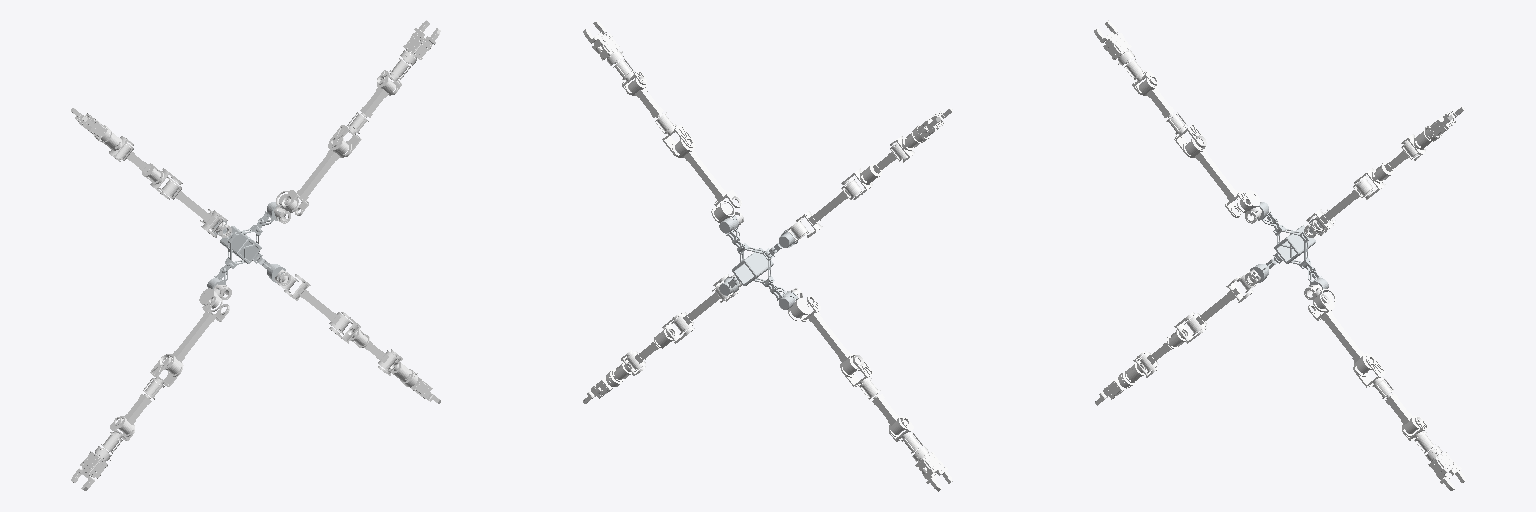
--- What the picture shows (computed from the rendered views, not written in the file) ---
The picture shows the robot from 3 angles, left to right: view 1: azimuth 30°, elevation 25°; view 2: azimuth 150°, elevation 25°; view 3: azimuth 330°, elevation 25°; orthographic projection.
Model limbarm_robot with 34 links and 33 joints (28 revolute, 5 fixed), rooted at dummy_link, posed all joints at 0.
Visible links, largest first — view 1: Link2_2, Link3_2, base_link, Link4_2, Link1_2, Link3_Hand, Link2_Hand, Link3_3, Link2_3, Link2_4, Link3_4; view 2: Link2_2, Link3_2, base_link, Link4_2, Link2_Hand, Link3_Hand, Link1_2, Link3_3, Link2_4, Link2_3, Link3_4; view 3: Link4_2, Link1_2, base_link, Link3_2, Link2_2, Link1_Hand, Link4_Hand, Link1_3, Link4_4, Link4_3, Link1_4.
Link boxes in pixels (x1,y1,x2,y2): Link2_2: (163,296,229,376); Link3_2: (282,138,351,215); base_link: (220,225,262,268); Link4_2: (159,177,227,237); Link1_2: (284,274,352,334); Link3_Hand: (403,20,440,59); Link2_Hand: (71,451,107,490); Link3_3: (329,112,368,156); Link2_3: (143,354,180,399); Link2_4: (116,394,151,436); Link3_4: (360,77,397,117); Link2_2: (800,296,860,377); Link3_2: (672,138,741,207); base_link: (732,243,774,286); Link4_2: (796,177,864,237); Link2_Hand: (915,452,952,491); Link3_Hand: (583,21,619,60); Link1_2: (671,274,739,334); Link3_3: (655,112,694,157); Link2_4: (872,394,906,436); Link2_3: (842,355,880,399); Link3_4: (625,77,663,117); Link4_2: (1183,138,1251,217); Link1_2: (1308,294,1372,376); base_link: (1273,225,1315,268); Link3_2: (1306,176,1375,235); Link2_2: (1184,276,1253,335); Link1_Hand: (1428,451,1465,490); Link4_Hand: (1094,20,1131,59); Link1_3: (1353,355,1393,398); Link4_4: (1136,77,1174,117); Link4_3: (1166,112,1206,152); Link1_4: (1385,394,1419,436).
Bounding box of the posed robot: 1.91 × 0.2823 × 1.91 m (x, y, z).
33 mesh visuals loaded from 9 distinct referenced files (9 binary STL).

The robot description file, URDF, robot "limbarm_robot":
<?xml version="1.0" ?>
<!-- =================================================================================== -->
<!-- |    This document was autogenerated by xacro from limbarm_robot.xacro            | -->
<!-- |    EDITING THIS FILE BY HAND IS NOT RECOMMENDED                                 | -->
<!-- =================================================================================== -->
<!-- This URDF was automatically created by SolidWorks to URDF Exporter! Originally created by Stephen Brawner ([email redacted]) 
     Commit Version: 1.6.0-1-g15f4949  Build Version: 1.6.7594.29634
     For more information, please see http://wiki.ros.org/sw_urdf_exporter -->
<robot name="limbarm_robot">
  <!--body*********************************************************************************************************-->
  <!-- Define the dummy link -->
  <link name="dummy_link">
    <!-- No inertial element is necessary for the dummy link -->
  </link>
  <link name="base_link">
    <inertial>
      <origin xyz="0 0 0" rpy="0 0 0"/>
      <mass value="0.207227651472846"/>
      <inertia ixx="0.000864776609063061" ixy="1.70761842166467E-18" ixz="-3.90064549015996E-19" iyy="0.000864776609063067" iyz="-7.32576739205599E-20" izz="0.00169698819383654"/>
    </inertial>
    <visual>
      <origin xyz="0 0 0" rpy="0 0 0"/>
      <geometry>
        <mesh filename="package://limbarm-robot/meshes/base_link.STL"/>
      </geometry>
      <material name="">
        <color rgba="0.898039215686275 0.917647058823529 0.929411764705882 1"/>
      </material>
    </visual>
    <collision>
      <origin xyz="0 0 0" rpy="0 0 0"/>
      <geometry>
        <mesh filename="package://limbarm-robot/meshes/base_link.STL"/>
      </geometry>
    </collision>
  </link>
  <!-- Define a fixed joint between the dummy link and the base_link -->
  <joint name="dummy_joint" type="fixed">
    <parent link="dummy_link"/>
    <child link="base_link"/>
    <origin xyz="0 0 0.55" rpy="-1.5708 0 0"/>
  </joint>
  <!-- <link name="Link_platform">
    <inertial>
      <origin rpy="0 0 0" xyz="8.3809632400694E-17 -3.87522401236673E-16 0.0118908439474308"/>
      <mass value="0.2130133080088"/>
      <inertia ixx="0.000750053187775699" ixy="-2.71050543121376E-20" ixz="-1.56668488086988E-19" iyy="0.000750053187775698" iyz="-1.32295904238123E-17" izz="0.00145982770981803"/>
    </inertial>
    <visual>
      <origin rpy="0 0 0" xyz="0 0 0"/>
      <geometry>
        <mesh filename="package://limbarm-robot/meshes/Link_platform.STL"/>
      </geometry>
      <material name="">
        <color rgba="0.898039215686275 0.917647058823529 0.929411764705882 1"/>
      </material>
    </visual>
    <collision>
      <origin rpy="0 0 0" xyz="0 0 0"/>
      <geometry>
        <mesh filename="package://limbarm-robot/meshes/Link_platform.STL"/>
      </geometry>
    </collision>
  </link>
  <joint name="Joint_platform" type="prismatic">
    <origin rpy="0 0 0" xyz="0 0 0.043397"/>
    <parent link="base_link"/>
    <child link="Link_platform"/>
    <axis xyz="0 0 1"/>
    <limit effort="0" lower="0" upper="0.2" velocity="0"/>
  </joint> -->
  <link name="Link1_0">
    <inertial>
      <origin rpy="0 0 0" xyz="0.0664169606230434 -0.0201281947592238 4.76216409223294E-09"/>
      <mass value="0.167855923175507"/>
      <inertia ixx="0.000138967813923233" ixy="0.00013034966620524" ixz="4.19274572448473E-10" iyy="0.000359258276622689" iyz="-4.93247675598086E-10" izz="0.00040872901975892"/>
    </inertial>
    <visual>
      <origin rpy="0 0 0" xyz="0 0 0"/>
      <geometry>
        <mesh filename="package://limbarm-robot/meshes/Link_0.STL"/>
      </geometry>
      <material name="">
        <color rgba="0.898039215686275 0.917647058823529 0.929411764705882 1"/>
      </material>
    </visual>
    <collision>
      <origin rpy="0 0 0" xyz="0 0 0"/>
      <geometry>
        <mesh filename="package://limbarm-robot/meshes/Link_0.STL"/>
      </geometry>
    </collision>
  </link>
  <joint name="Joint1_0" type="revolute">
    <origin rpy="1.5708 0 0.7854" xyz="0.072125 0.072125 0.018"/>
    <parent link="base_link"/>
    <child link="Link1_0"/>
    <axis xyz="0 0 1"/>
    <limit effort="0" lower="0" upper="1.5707963267948966" velocity="0"/>
  </joint>
  <link name="Link1_1">
    <inertial>
      <origin rpy="0 0 0" xyz="0.0250848566132372 0.00345843485933482 0.0514637195946037"/>
      <mass value="0.0924049155630686"/>
      <inertia ixx="0.000113655728960563" ixy="-5.80244611122902E-06" ixz="-3.76444889979073E-06" iyy="0.000108121821578899" iyz="-3.49900344610929E-10" izz="9.35026260489851E-05"/>
    </inertial>
    <visual>
      <origin rpy="0 0 0" xyz="0 0 0"/>
      <geometry>
        <mesh filename="package://limbarm-robot/meshes/Link_1.STL"/>
      </geometry>
      <material name="">
        <color rgba="1 1 1 1"/>
      </material>
    </visual>
    <collision>
      <origin rpy="0 0 0" xyz="0 0 0"/>
      <geometry>
        <mesh filename="package://limbarm-robot/meshes/Link_1.STL"/>
      </geometry>
    </collision>
  </link>
  <joint name="Joint1_1" type="revolute">
    <origin rpy="1.5708 0 0" xyz="0.12 -0.058 0"/>
    <parent link="Link1_0"/>
    <child link="Link1_1"/>
    <axis xyz="0 0 1"/>
    <limit effort="0" lower="-2.094395102393195" upper="2.094395102393195" velocity="0"/>
  </joint>
  <link name="Link1_2">
    <inertial>
      <origin rpy="0 0 0" xyz="0.164755159604738 5.52891938350869E-05 0.00408065381894232"/>
      <mass value="0.199013621726556"/>
      <inertia ixx="0.000157061185619374" ixy="1.12205157240906E-10" ixz="1.68248403114826E-05" iyy="0.000550518166051161" iyz="3.11728051125751E-11" izz="0.000520833679086167"/>
    </inertial>
    <visual>
      <origin rpy="0 0 0" xyz="0 0 0"/>
      <geometry>
        <mesh filename="package://limbarm-robot/meshes/Link_2.STL"/>
      </geometry>
      <material name="">
        <color rgba="1 1 1 1"/>
      </material>
    </visual>
    <collision>
      <origin rpy="0 0 0" xyz="0 0 0"/>
      <geometry>
        <mesh filename="package://limbarm-robot/meshes/Link_2.STL"/>
      </geometry>
    </collision>
  </link>
  <joint name="Joint1_2" type="revolute">
    <origin rpy="-1.5708 0 0" xyz="0.0625 0.0025 0.059"/>
    <parent link="Link1_1"/>
    <child link="Link1_2"/>
    <axis xyz="0 0 1"/>
    <limit effort="0" lower="-2.0943951023931953" upper="1.5707963267948966" velocity="0"/>
  </joint>
  <link name="Link1_3">
    <inertial>
      <origin rpy="0 0 0" xyz="0.0720097797375396 -0.000448350531068148 0.00124427030485257"/>
      <mass value="0.133696366167161"/>
      <inertia ixx="0.000115445322405323" ixy="-2.9390750086264E-07" ixz="3.41837661585693E-05" iyy="0.000205794166012378" iyz="-7.33953327793886E-11" izz="0.000182900509037997"/>
    </inertial>
    <visual>
      <origin rpy="0 0 0" xyz="0 0 0"/>
      <geometry>
        <mesh filename="package://limbarm-robot/meshes/Link_3.STL"/>
      </geometry>
      <material name="">
        <color rgba="1 1 1 1"/>
      </material>
    </visual>
    <collision>
      <origin rpy="0 0 0" xyz="0 0 0"/>
      <geometry>
        <mesh filename="package://limbarm-robot/meshes/Link_3.STL"/>
      </geometry>
    </collision>
  </link>
  <joint name="Joint1_3" type="revolute">
    <origin rpy="0 0 0" xyz="0.35 0.0002 0"/>
    <parent link="Link1_2"/>
    <child link="Link1_3"/>
    <axis xyz="0 0 1"/>
    <limit effort="0" lower="-2.530727415391778" upper="2.530727415391778" velocity="0"/>
  </joint>
  <link name="Link1_4">
    <inertial>
      <origin rpy="0 0 0" xyz="-0.00219595597659072 5.55111512312578E-17 0.10937323066911"/>
      <mass value="0.0991853302135674"/>
      <inertia ixx="0.000103997514125068" ixy="-1.20729995670382E-20" ixz="4.04878902852236E-06" iyy="0.000118364894914693" iyz="2.39343771466793E-20" izz="7.06314967499001E-05"/>
    </inertial>
    <visual>
      <origin rpy="0 0 0" xyz="0 0 0"/>
      <geometry>
        <mesh filename="package://limbarm-robot/meshes/Link_4.STL"/>
      </geometry>
      <material name="">
        <color rgba="1 1 1 1"/>
      </material>
    </visual>
    <collision>
      <origin rpy="0 0 0" xyz="0 0 0"/>
      <geometry>
        <mesh filename="package://limbarm-robot/meshes/Link_4.STL"/>
      </geometry>
    </collision>
  </link>
  <joint name="Joint1_4" type="revolute">
    <origin rpy="0 1.5708 0" xyz="0.1745 0 0"/>
    <parent link="Link1_3"/>
    <child link="Link1_4"/>
    <axis xyz="0 0 1"/>
    <limit effort="0" lower="-3.141592653589793" upper="3.141592653589793" velocity="0"/>
  </joint>
  <link name="Link1_5">
    <inertial>
      <origin rpy="0 0 0" xyz="0.0516421278227287 -0.000601786312485739 0.00160323320931993"/>
      <mass value="0.102911752371677"/>
      <inertia ixx="9.39942726273345E-05" ixy="-2.93181599029908E-07" ixz="1.73270940326199E-05" iyy="0.000113244406627227" iyz="-3.14838914806693E-10" izz="8.10585911724992E-05"/>
    </inertial>
    <visual>
      <origin rpy="0 0 0" xyz="0 0 0"/>
      <geometry>
        <mesh filename="package://limbarm-robot/meshes/Link_5.STL"/>
      </geometry>
      <material name="">
        <color rgba="1 1 1 1"/>
      </material>
    </visual>
    <collision>
      <origin rpy="0 0 0" xyz="0 0 0"/>
      <geometry>
        <mesh filename="package://limbarm-robot/meshes/Link_5.STL"/>
      </geometry>
    </collision>
  </link>
  <joint name="Joint1_5" type="revolute">
    <origin rpy="3.1416 -1.5708 0" xyz="0 0 0.1795"/>
    <parent link="Link1_4"/>
    <child link="Link1_5"/>
    <axis xyz="0 0 1"/>
    <limit effort="0" lower="-1.9198621771937623" upper="1.9198621771937623" velocity="0"/>
  </joint>
  <link name="Link1_6">
    <inertial>
      <origin rpy="0 0 0" xyz="0.000146447962600783 0.000132910316064216 0.0194222181514005"/>
      <mass value="0.134599349728801"/>
      <inertia ixx="5.54993019233277E-05" ixy="-3.42434491188341E-07" ixz="1.1735586211374E-07" iyy="5.54034726867672E-05" iyz="9.38344787747327E-08" izz="9.77383386331803E-05"/>
    </inertial>
    <visual>
      <origin rpy="0 0 0" xyz="0 0 0"/>
      <geometry>
        <mesh filename="package://limbarm-robot/meshes/Link_6.STL"/>
      </geometry>
      <material name="">
        <color rgba="1 1 1 1"/>
      </material>
    </visual>
    <collision>
      <origin rpy="0 0 0" xyz="0 0 0"/>
      <geometry>
        <mesh filename="package://limbarm-robot/meshes/Link_6.STL"/>
      </geometry>
    </collision>
  </link>
  <joint name="Joint1_6" type="revolute">
    <origin rpy="0 1.5708 0" xyz="0.141 0 0"/>
    <parent link="Link1_5"/>
    <child link="Link1_6"/>
    <axis xyz="0 0 1"/>
    <limit effort="0" lower="-3.141592653589793" upper="3.141592653589793" velocity="0"/>
  </joint>
  <link name="Link1_Hand">
      <inertial>
        <origin rpy="0 0 0" xyz="-5.34486019601772E-05 -0.00163292800302499 0.0718038327986019"/>
        <mass value="0.306213518195145" />
        <inertia ixx="0.000241886583337232" ixy="-7.53752414578879E-06" ixz="-4.09966232551133E-08" iyy="0.000127174038942717" iyz="1.77993490423381E-06" izz="0.000271550204634038" />
      </inertial>
      <visual>
        <origin rpy="0 0 0" xyz="0 0 0"/>
        <geometry>
          <mesh filename="package://limbarm-robot/meshes/Hand.STL" />
        </geometry>
        <material name="">
          <color rgba="1 1 1 1" />
        </material>
      </visual>
      <collision>
        <origin rpy="0 0 0" xyz="0 0 0"/>
        <geometry>
          <mesh
            filename="package://limbarm-robot/meshes/Hand.STL" />
        </geometry>
      </collision>
  </link>
  <joint name="Joint1_hand"
      type="fixed">
      <origin rpy="0 0 0" xyz="0 0 0.0385"/>
      <parent link="Link1_6" />
      <child link="Link1_Hand" />
      <axis xyz="0 0 0" />
  </joint>
  <link name="Link2_0">
      <inertial>
        <origin rpy="0 0 0" xyz="0.0664169606230434 -0.0201281947592238 4.76216409223294E-09"/>
        <mass value="0.167855923175507"/>
        <inertia ixx="0.000138967813923233" ixy="0.00013034966620524" ixz="4.19274572448473E-10" iyy="0.000359258276622689" iyz="-4.93247675598086E-10" izz="0.00040872901975892"/>
      </inertial>
      <visual>
        <origin rpy="0 0 0" xyz="0 0 0"/>
        <geometry>
          <mesh filename="package://limbarm-robot/meshes/Link_0.STL"/>
        </geometry>
        <material name="">
          <color rgba="0.898039215686275 0.917647058823529 0.929411764705882 1"/>
        </material>
      </visual>
      <collision>
        <origin rpy="0 0 0" xyz="0 0 0"/>
        <geometry>
          <mesh filename="package://limbarm-robot/meshes/Link_0.STL"/>
        </geometry>
      </collision>
  </link>
  <joint name="Joint2_0" type="revolute">
      <origin rpy="1.5708 0 2.3562" xyz="-0.072125 0.072125 0.018"/>
      <parent link="base_link"/>
      <child link="Link2_0"/>
      <axis xyz="0 0 1"/>
      <limit effort="0" lower="0" upper="1.5707963267948966" velocity="0"/>
  </joint>
  <link name="Link2_1">
      <inertial>
        <origin rpy="0 0 0" xyz="0.0250848566132372 0.00345843485933482 0.0514637195946037"/>
        <mass value="0.0924049155630686"/>
        <inertia ixx="0.000113655728960563" ixy="-5.80244611122902E-06" ixz="-3.76444889979073E-06" iyy="0.000108121821578899" iyz="-3.49900344610929E-10" izz="9.35026260489851E-05"/>
      </inertial>
      <visual>
        <origin rpy="0 0 0" xyz="0 0 0"/>
        <geometry>
          <mesh filename="package://limbarm-robot/meshes/Link_1.STL"/>
        </geometry>
        <material name="">
          <color rgba="1 1 1 1"/>
        </material>
      </visual>
      <collision>
        <origin rpy="0 0 0" xyz="0 0 0"/>
        <geometry>
          <mesh filename="package://limbarm-robot/meshes/Link_1.STL"/>
        </geometry>
      </collision>
  </link>
  <joint name="Joint2_1" type="revolute">
      <origin rpy="1.5708 0 0" xyz="0.12 -0.058 0"/>
      <parent link="Link2_0"/>
      <child link="Link2_1"/>
      <axis xyz="0 0 1"/>
      <limit effort="0" lower="-2.094395102393195" upper="2.094395102393195" velocity="0"/>
  </joint>
  <link name="Link2_2">
      <inertial>
        <origin rpy="0 0 0" xyz="0.164755159604738 5.52891938350869E-05 0.00408065381894232"/>
        <mass value="0.199013621726556"/>
        <inertia ixx="0.000157061185619374" ixy="1.12205157240906E-10" ixz="1.68248403114826E-05" iyy="0.000550518166051161" iyz="3.11728051125751E-11" izz="0.000520833679086167"/>
      </inertial>
      <visual>
        <origin rpy="0 0 0" xyz="0 0 0"/>
        <geometry>
          <mesh filename="package://limbarm-robot/meshes/Link_2.STL"/>
        </geometry>
        <material name="">
          <color rgba="1 1 1 1"/>
        </material>
      </visual>
      <collision>
        <origin rpy="0 0 0" xyz="0 0 0"/>
        <geometry>
          <mesh filename="package://limbarm-robot/meshes/Link_2.STL"/>
        </geometry>
      </collision>
  </link>
  <joint name="Joint2_2" type="revolute">
      <origin rpy="-1.5708 0 0" xyz="0.0625 0.0025 0.059"/>
      <parent link="Link2_1"/>
      <child link="Link2_2"/>
      <axis xyz="0 0 1"/>
      <limit effort="0" lower="-2.0943951023931953" upper="1.5707963267948966" velocity="0"/>
  </joint>
  <link name="Link2_3">
      <inertial>
        <origin rpy="0 0 0" xyz="0.0720097797375396 -0.000448350531068148 0.00124427030485257"/>
        <mass value="0.133696366167161"/>
        <inertia ixx="0.000115445322405323" ixy="-2.9390750086264E-07" ixz="3.41837661585693E-05" iyy="0.000205794166012378" iyz="-7.33953327793886E-11" izz="0.000182900509037997"/>
      </inertial>
      <visual>
        <origin rpy="0 0 0" xyz="0 0 0"/>
        <geometry>
          <mesh filename="package://limbarm-robot/meshes/Link_3.STL"/>
        </geometry>
        <material name="">
          <color rgba="1 1 1 1"/>
        </material>
      </visual>
      <collision>
        <origin rpy="0 0 0" xyz="0 0 0"/>
        <geometry>
          <mesh filename="package://limbarm-robot/meshes/Link_3.STL"/>
        </geometry>
      </collision>
  </link>
  <joint name="Joint2_3" type="revolute">
      <origin rpy="0 0 0" xyz="0.35 0.0002 0"/>
      <parent link="Link2_2"/>
      <child link="Link2_3"/>
      <axis xyz="0 0 1"/>
      <limit effort="0" lower="-2.530727415391778" upper="2.530727415391778" velocity="0"/>
  </joint>
  <link name="Link2_4">
      <inertial>
        <origin rpy="0 0 0" xyz="-0.00219595597659072 5.55111512312578E-17 0.10937323066911"/>
        <mass value="0.0991853302135674"/>
        <inertia ixx="0.000103997514125068" ixy="-1.20729995670382E-20" ixz="4.04878902852236E-06" iyy="0.000118364894914693" iyz="2.39343771466793E-20" izz="7.06314967499001E-05"/>
      </inertial>
      <visual>
        <origin rpy="0 0 0" xyz="0 0 0"/>
        <geometry>
          <mesh filename="package://limbarm-robot/meshes/Link_4.STL"/>
        </geometry>
        <material name="">
          <color rgba="1 1 1 1"/>
        </material>
      </visual>
      <collision>
        <origin rpy="0 0 0" xyz="0 0 0"/>
        <geometry>
          <mesh filename="package://limbarm-robot/meshes/Link_4.STL"/>
        </geometry>
      </collision>
  </link>
  <joint name="Joint2_4" type="revolute">
      <origin rpy="0 1.5708 0" xyz="0.1745 0 0"/>
      <parent link="Link2_3"/>
      <child link="Link2_4"/>
      <axis xyz="0 0 1"/>
      <limit effort="0" lower="-3.141592653589793" upper="3.141592653589793" velocity="0"/>
  </joint>
  <link name="Link2_5">
      <inertial>
        <origin rpy="0 0 0" xyz="0.0516421278227287 -0.000601786312485739 0.00160323320931993"/>
        <mass value="0.102911752371677"/>
        <inertia ixx="9.39942726273345E-05" ixy="-2.93181599029908E-07" ixz="1.73270940326199E-05" iyy="0.000113244406627227" iyz="-3.14838914806693E-10" izz="8.10585911724992E-05"/>
      </inertial>
      <visual>
        <origin rpy="0 0 0" xyz="0 0 0"/>
        <geometry>
          <mesh filename="package://limbarm-robot/meshes/Link_5.STL"/>
        </geometry>
        <material name="">
          <color rgba="1 1 1 1"/>
        </material>
      </visual>
      <collision>
        <origin rpy="0 0 0" xyz="0 0 0"/>
        <geometry>
          <mesh filename="package://limbarm-robot/meshes/Link_5.STL"/>
        </geometry>
      </collision>
  </link>
  <joint name="Joint2_5" type="revolute">
      <origin rpy="3.1416 -1.5708 0" xyz="0 0 0.1795"/>
      <parent link="Link2_4"/>
      <child link="Link2_5"/>
      <axis xyz="0 0 1"/>
      <limit effort="0" lower="-1.9198621771937623" upper="1.9198621771937623" velocity="0"/>
  </joint>
  <link name="Link2_6">
      <inertial>
        <origin rpy="0 0 0" xyz="0.000146447962600783 0.000132910316064216 0.0194222181514005"/>
        <mass value="0.134599349728801"/>
        <inertia ixx="5.54993019233277E-05" ixy="-3.42434491188341E-07" ixz="1.1735586211374E-07" iyy="5.54034726867672E-05" iyz="9.38344787747327E-08" izz="9.77383386331803E-05"/>
      </inertial>
      <visual>
        <origin rpy="0 0 0" xyz="0 0 0"/>
        <geometry>
          <mesh filename="package://limbarm-robot/meshes/Link_6.STL"/>
        </geometry>
        <material name="">
          <color rgba="1 1 1 1"/>
        </material>
      </visual>
      <collision>
        <origin rpy="0 0 0" xyz="0 0 0"/>
        <geometry>
          <mesh filename="package://limbarm-robot/meshes/Link_6.STL"/>
        </geometry>
      </collision>
  </link>
  <joint name="Joint2_6" type="revolute">
      <origin rpy="0 1.5708 0" xyz="0.141 0 0"/>
      <parent link="Link2_5"/>
      <child link="Link2_6"/>
      <axis xyz="0 0 1"/>
      <limit effort="0" lower="-3.141592653589793" upper="3.141592653589793" velocity="0"/>
  </joint>
  <link name="Link2_Hand">
      <inertial>
        <origin rpy="0 0 0" xyz="-5.34486019601772E-05 -0.00163292800302499 0.0718038327986019"/>
        <mass value="0.306213518195145" />
        <inertia ixx="0.000241886583337232" ixy="-7.53752414578879E-06" ixz="-4.09966232551133E-08" iyy="0.000127174038942717" iyz="1.77993490423381E-06" izz="0.000271550204634038" />
      </inertial>
      <visual>
        <origin rpy="0 0 0" xyz="0 0 0"/>
        <geometry>
          <mesh filename="package://limbarm-robot/meshes/Hand.STL" />
        </geometry>
        <material name="">
          <color rgba="1 1 1 1" />
        </material>
      </visual>
      <collision>
        <origin rpy="0 0 0" xyz="0 0 0"/>
        <geometry>
          <mesh
            filename="package://limbarm-robot/meshes/Hand.STL" />
        </geometry>
      </collision>
  </link>
  <joint name="Joint2_hand"
      type="fixed">
      <origin rpy="0 0 0" xyz="0 0 0.0385"/>
      <parent link="Link2_6" />
      <child link="Link2_Hand" />
      <axis xyz="0 0 0" />
  </joint>
  <link name="Link3_0">
      <inertial>
        <origin rpy="0 0 0" xyz="0.0664169606230434 -0.0201281947592238 4.76216409223294E-09"/>
        <mass value="0.167855923175507"/>
        <inertia ixx="0.000138967813923233" ixy="0.00013034966620524" ixz="4.19274572448473E-10" iyy="0.000359258276622689" iyz="-4.93247675598086E-10" izz="0.00040872901975892"/>
      </inertial>
      <visual>
        <origin rpy="0 0 0" xyz="0 0 0"/>
        <geometry>
          <mesh filename="package://limbarm-robot/meshes/Link_0.STL"/>
        </geometry>
        <material name="">
          <color rgba="0.898039215686275 0.917647058823529 0.929411764705882 1"/>
        </material>
      </visual>
      <collision>
        <origin rpy="0 0 0" xyz="0 0 0"/>
        <geometry>
          <mesh filename="package://limbarm-robot/meshes/Link_0.STL"/>
        </geometry>
      </collision>
  </link>
  <joint name="Joint3_0" type="revolute">
      <origin rpy="1.5708 0 -0.7854" xyz="0.072125 -0.072125 0.018"/>
      <parent link="base_link"/>
      <child link="Link3_0"/>
      <axis xyz="0 0 1"/>
      <limit effort="0" lower="0" upper="1.5707963267948966" velocity="0"/>
  </joint>
  <link name="Link3_1">
      <inertial>
        <origin rpy="0 0 0" xyz="0.0250848566132372 0.00345843485933482 0.0514637195946037"/>
        <mass value="0.0924049155630686"/>
        <inertia ixx="0.000113655728960563" ixy="-5.80244611122902E-06" ixz="-3.76444889979073E-06" iyy="0.000108121821578899" iyz="-3.49900344610929E-10" izz="9.35026260489851E-05"/>
      </inertial>
      <visual>
        <origin rpy="0 0 0" xyz="0 0 0"/>
        <geometry>
          <mesh filename="package://limbarm-robot/meshes/Link_1.STL"/>
        </geometry>
        <material name="">
          <color rgba="1 1 1 1"/>
        </material>
      </visual>
      <collision>
        <origin rpy="0 0 0" xyz="0 0 0"/>
        <geometry>
          <mesh filename="package://limbarm-robot/meshes/Link_1.STL"/>
        </geometry>
      </collision>
  </link>
  <joint name="Joint3_1" type="revolute">
      <origin rpy="1.5708 0 0" xyz="0.12 -0.058 0"/>
      <parent link="Link3_0"/>
      <child link="Link3_1"/>
      <axis xyz="0 0 1"/>
      <limit effort="0" lower="-2.094395102393195" upper="2.094395102393195" velocity="0"/>
  </joint>
  <link name="Link3_2">
      <inertial>
        <origin rpy="0 0 0" xyz="0.164755159604738 5.52891938350869E-05 0.00408065381894232"/>
        <mass value="0.199013621726556"/>
        <inertia ixx="0.000157061185619374" ixy="1.12205157240906E-10" ixz="1.68248403114826E-05" iyy="0.000550518166051161" iyz="3.11728051125751E-11" izz="0.000520833679086167"/>
      </inertial>
      <visual>
        <origin rpy="0 0 0" xyz="0 0 0"/>
        <geometry>
          <mesh filename="package://limbarm-robot/meshes/Link_2.STL"/>
        </geometry>
        <material name="">
          <color rgba="1 1 1 1"/>
        </material>
      </visual>
      <collision>
        <origin rpy="0 0 0" xyz="0 0 0"/>
        <geometry>
          <mesh filename="package://limbarm-robot/meshes/Link_2.STL"/>
        </geometry>
      </collision>
  </link>
  <joint name="Joint3_2" type="revolute">
      <origin rpy="-1.5708 0 0" xyz="0.0625 0.0025 0.059"/>
      <parent link="Link3_1"/>
      <child link="Link3_2"/>
      <axis xyz="0 0 1"/>
      <limit effort="0" lower="-2.0943951023931953" upper="1.5707963267948966" velocity="0"/>
  </joint>
  <link name="Link3_3">
      <inertial>
        <origin rpy="0 0 0" xyz="0.0720097797375396 -0.000448350531068148 0.00124427030485257"/>
        <mass value="0.133696366167161"/>
        <inertia ixx="0.000115445322405323" ixy="-2.9390750086264E-07" ixz="3.41837661585693E-05" iyy="0.000205794166012378" iyz="-7.33953327793886E-11" izz="0.000182900509037997"/>
      </inertial>
      <visual>
        <origin rpy="0 0 0" xyz="0 0 0"/>
        <geometry>
          <mesh filename="package://limbarm-robot/meshes/Link_3.STL"/>
        </geometry>
        <material name="">
          <color rgba="1 1 1 1"/>
        </material>
      </visual>
      <collision>
        <origin rpy="0 0 0" xyz="0 0 0"/>
        <geometry>
          <mesh filename="package://limbarm-robot/meshes/Link_3.STL"/>
        </geometry>
      </collision>
  </link>
  <joint name="Joint3_3" type="revolute">
      <origin rpy="0 0 0" xyz="0.35 0.0002 0"/>
      <parent link="Link3_2"/>
      <child link="Link3_3"/>
      <axis xyz="0 0 1"/>
      <limit effort="0" lower="-2.530727415391778" upper="2.530727415391778" velocity="0"/>
  </joint>
  <link name="Link3_4">
      <inertial>
        <origin rpy="0 0 0" xyz="-0.00219595597659072 5.55111512312578E-17 0.10937323066911"/>
        <mass value="0.0991853302135674"/>
        <inertia ixx="0.000103997514125068" ixy="-1.20729995670382E-20" ixz="4.04878902852236E-06" iyy="0.000118364894914693" iyz="2.39343771466793E-20" izz="7.06314967499001E-05"/>
      </inertial>
      <visual>
        <origin rpy="0 0 0" xyz="0 0 0"/>
        <geometry>
          <mesh filename="package://limbarm-robot/meshes/Link_4.STL"/>
        </geometry>
        <material name="">
          <color rgba="1 1 1 1"/>
        </material>
      </visual>
      <collision>
        <origin rpy="0 0 0" xyz="0 0 0"/>
        <geometry>
          <mesh filename="package://limbarm-robot/meshes/Link_4.STL"/>
        </geometry>
      </collision>
  </link>
  <joint name="Joint3_4" type="revolute">
      <origin rpy="0 1.5708 0" xyz="0.1745 0 0"/>
      <parent link="Link3_3"/>
      <child link="Link3_4"/>
      <axis xyz="0 0 1"/>
      <limit effort="0" lower="-3.141592653589793" upper="3.141592653589793" velocity="0"/>
  </joint>
  <link name="Link3_5">
      <inertial>
        <origin rpy="0 0 0" xyz="0.0516421278227287 -0.000601786312485739 0.00160323320931993"/>
        <mass value="0.102911752371677"/>
        <inertia ixx="9.39942726273345E-05" ixy="-2.93181599029908E-07" ixz="1.73270940326199E-05" iyy="0.000113244406627227" iyz="-3.14838914806693E-10" izz="8.10585911724992E-05"/>
      </inertial>
      <visual>
        <origin rpy="0 0 0" xyz="0 0 0"/>
        <geometry>
          <mesh filename="package://limbarm-robot/meshes/Link_5.STL"/>
        </geometry>
        <material name="">
          <color rgba="1 1 1 1"/>
        </material>
      </visual>
      <collision>
        <origin rpy="0 0 0" xyz="0 0 0"/>
        <geometry>
          <mesh filename="package://limbarm-robot/meshes/Link_5.STL"/>
        </geometry>
      </collision>
  </link>
  <joint name="Joint3_5" type="revolute">
      <origin rpy="3.1416 -1.5708 0" xyz="0 0 0.1795"/>
      <parent link="Link3_4"/>
      <child link="Link3_5"/>
      <axis xyz="0 0 1"/>
      <limit effort="0" lower="-1.9198621771937623" upper="1.9198621771937623" velocity="0"/>
  </joint>
  <link name="Link3_6">
      <inertial>
        <origin rpy="0 0 0" xyz="0.000146447962600783 0.000132910316064216 0.0194222181514005"/>
        <mass value="0.134599349728801"/>
        <inertia ixx="5.54993019233277E-05" ixy="-3.42434491188341E-07" ixz="1.1735586211374E-07" iyy="5.54034726867672E-05" iyz="9.38344787747327E-08" izz="9.77383386331803E-05"/>
      </inertial>
      <visual>
        <origin rpy="0 0 0" xyz="0 0 0"/>
        <geometry>
          <mesh filename="package://limbarm-robot/meshes/Link_6.STL"/>
        </geometry>
        <material name="">
          <color rgba="1 1 1 1"/>
        </material>
      </visual>
      <collision>
        <origin rpy="0 0 0" xyz="0 0 0"/>
        <geometry>
          <mesh filename="package://limbarm-robot/meshes/Link_6.STL"/>
        </geometry>
      </collision>
  </link>
  <joint name="Joint3_6" type="revolute">
      <origin rpy="0 1.5708 0" xyz="0.141 0 0"/>
      <parent link="Link3_5"/>
      <child link="Link3_6"/>
      <axis xyz="0 0 1"/>
      <limit effort="0" lower="-3.141592653589793" upper="3.141592653589793" velocity="0"/>
  </joint>
  <link name="Link3_Hand">
      <inertial>
        <origin rpy="0 0 0" xyz="-5.34486019601772E-05 -0.00163292800302499 0.0718038327986019"/>
        <mass value="0.306213518195145" />
        <inertia ixx="0.000241886583337232" ixy="-7.53752414578879E-06" ixz="-4.09966232551133E-08" iyy="0.000127174038942717" iyz="1.77993490423381E-06" izz="0.000271550204634038" />
      </inertial>
      <visual>
        <origin rpy="0 0 0" xyz="0 0 0"/>
        <geometry>
          <mesh filename="package://limbarm-robot/meshes/Hand.STL" />
        </geometry>
        <material name="">
          <color rgba="1 1 1 1" />
        </material>
      </visual>
      <collision>
        <origin rpy="0 0 0" xyz="0 0 0"/>
        <geometry>
          <mesh
            filename="package://limbarm-robot/meshes/Hand.STL" />
        </geometry>
      </collision>
  </link>
  <joint name="Joint3_hand"
      type="fixed">
      <origin rpy="0 0 0" xyz="0 0 0.0385"/>
      <parent link="Link3_6" />
      <child link="Link3_Hand" />
      <axis xyz="0 0 0" />
  </joint>
  <link name="Link4_0">
      <inertial>
        <origin rpy="0 0 0" xyz="0.0664169606230434 -0.0201281947592238 4.76216409223294E-09"/>
        <mass value="0.167855923175507"/>
        <inertia ixx="0.000138967813923233" ixy="0.00013034966620524" ixz="4.19274572448473E-10" iyy="0.000359258276622689" iyz="-4.93247675598086E-10" izz="0.00040872901975892"/>
      </inertial>
      <visual>
        <origin rpy="0 0 0" xyz="0 0 0"/>
        <geometry>
          <mesh filename="package://limbarm-robot/meshes/Link_0.STL"/>
        </geometry>
        <material name="">
          <color rgba="0.898039215686275 0.917647058823529 0.929411764705882 1"/>
        </material>
      </visual>
      <collision>
        <origin rpy="0 0 0" xyz="0 0 0"/>
        <geometry>
          <mesh filename="package://limbarm-robot/meshes/Link_0.STL"/>
        </geometry>
      </collision>
  </link>
  <joint name="Joint4_0" type="revolute">
      <origin rpy="1.5708 0 -2.3562" xyz="-0.072125 -0.072125 0.018"/>
      <parent link="base_link"/>
      <child link="Link4_0"/>
      <axis xyz="0 0 1"/>
      <limit effort="0" lower="0" upper="1.5707963267948966" velocity="0"/>
  </joint>
  <link name="Link4_1">
      <inertial>
        <origin rpy="0 0 0" xyz="0.0250848566132372 0.00345843485933482 0.0514637195946037"/>
        <mass value="0.0924049155630686"/>
        <inertia ixx="0.000113655728960563" ixy="-5.80244611122902E-06" ixz="-3.76444889979073E-06" iyy="0.000108121821578899" iyz="-3.49900344610929E-10" izz="9.35026260489851E-05"/>
      </inertial>
      <visual>
        <origin rpy="0 0 0" xyz="0 0 0"/>
        <geometry>
          <mesh filename="package://limbarm-robot/meshes/Link_1.STL"/>
        </geometry>
        <material name="">
          <color rgba="1 1 1 1"/>
        </material>
      </visual>
      <collision>
        <origin rpy="0 0 0" xyz="0 0 0"/>
        <geometry>
          <mesh filename="package://limbarm-robot/meshes/Link_1.STL"/>
        </geometry>
      </collision>
  </link>
  <joint name="Joint4_1" type="revolute">
      <origin rpy="1.5708 0 0" xyz="0.12 -0.058 0"/>
      <parent link="Link4_0"/>
      <child link="Link4_1"/>
      <axis xyz="0 0 1"/>
      <limit effort="0" lower="-2.094395102393195" upper="2.094395102393195" velocity="0"/>
  </joint>
  <link name="Link4_2">
      <inertial>
        <origin rpy="0 0 0" xyz="0.164755159604738 5.52891938350869E-05 0.00408065381894232"/>
        <mass value="0.199013621726556"/>
        <inertia ixx="0.000157061185619374" ixy="1.12205157240906E-10" ixz="1.68248403114826E-05" iyy="0.000550518166051161" iyz="3.11728051125751E-11" izz="0.000520833679086167"/>
      </inertial>
      <visual>
        <origin rpy="0 0 0" xyz="0 0 0"/>
        <geometry>
          <mesh filename="package://limbarm-robot/meshes/Link_2.STL"/>
        </geometry>
        <material name="">
          <color rgba="1 1 1 1"/>
        </material>
      </visual>
      <collision>
        <origin rpy="0 0 0" xyz="0 0 0"/>
        <geometry>
          <mesh filename="package://limbarm-robot/meshes/Link_2.STL"/>
        </geometry>
      </collision>
  </link>
  <joint name="Joint4_2" type="revolute">
      <origin rpy="-1.5708 0 0" xyz="0.0625 0.0025 0.059"/>
      <parent link="Link4_1"/>
      <child link="Link4_2"/>
      <axis xyz="0 0 1"/>
      <limit effort="0" lower="-2.0943951023931953" upper="1.5707963267948966" velocity="0"/>
  </joint>
  <link name="Link4_3">
      <inertial>
        <origin rpy="0 0 0" xyz="0.0720097797375396 -0.000448350531068148 0.00124427030485257"/>
        <mass value="0.133696366167161"/>
        <inertia ixx="0.000115445322405323" ixy="-2.9390750086264E-07" ixz="3.41837661585693E-05" iyy="0.000205794166012378" iyz="-7.33953327793886E-11" izz="0.000182900509037997"/>
      </inertial>
      <visual>
        <origin rpy="0 0 0" xyz="0 0 0"/>
        <geometry>
          <mesh filename="package://limbarm-robot/meshes/Link_3.STL"/>
        </geometry>
        <material name="">
          <color rgba="1 1 1 1"/>
        </material>
      </visual>
      <collision>
        <origin rpy="0 0 0" xyz="0 0 0"/>
        <geometry>
          <mesh filename="package://limbarm-robot/meshes/Link_3.STL"/>
        </geometry>
      </collision>
  </link>
  <joint name="Joint4_3" type="revolute">
      <origin rpy="0 0 0" xyz="0.35 0.0002 0"/>
      <parent link="Link4_2"/>
      <child link="Link4_3"/>
      <axis xyz="0 0 1"/>
      <limit effort="0" lower="-2.530727415391778" upper="2.530727415391778" velocity="0"/>
  </joint>
  <link name="Link4_4">
      <inertial>
        <origin rpy="0 0 0" xyz="-0.00219595597659072 5.55111512312578E-17 0.10937323066911"/>
        <mass value="0.0991853302135674"/>
        <inertia ixx="0.000103997514125068" ixy="-1.20729995670382E-20" ixz="4.04878902852236E-06" iyy="0.000118364894914693" iyz="2.39343771466793E-20" izz="7.06314967499001E-05"/>
      </inertial>
      <visual>
        <origin rpy="0 0 0" xyz="0 0 0"/>
        <geometry>
          <mesh filename="package://limbarm-robot/meshes/Link_4.STL"/>
        </geometry>
        <material name="">
          <color rgba="1 1 1 1"/>
        </material>
      </visual>
      <collision>
        <origin rpy="0 0 0" xyz="0 0 0"/>
        <geometry>
          <mesh filename="package://limbarm-robot/meshes/Link_4.STL"/>
        </geometry>
      </collision>
  </link>
  <joint name="Joint4_4" type="revolute">
      <origin rpy="0 1.5708 0" xyz="0.1745 0 0"/>
      <parent link="Link4_3"/>
      <child link="Link4_4"/>
      <axis xyz="0 0 1"/>
      <limit effort="0" lower="-3.141592653589793" upper="3.141592653589793" velocity="0"/>
  </joint>
  <link name="Link4_5">
      <inertial>
        <origin rpy="0 0 0" xyz="0.0516421278227287 -0.000601786312485739 0.00160323320931993"/>
        <mass value="0.102911752371677"/>
        <inertia ixx="9.39942726273345E-05" ixy="-2.93181599029908E-07" ixz="1.73270940326199E-05" iyy="0.000113244406627227" iyz="-3.14838914806693E-10" izz="8.10585911724992E-05"/>
      </inertial>
      <visual>
        <origin rpy="0 0 0" xyz="0 0 0"/>
        <geometry>
          <mesh filename="package://limbarm-robot/meshes/Link_5.STL"/>
        </geometry>
        <material name="">
          <color rgba="1 1 1 1"/>
        </material>
      </visual>
      <collision>
        <origin rpy="0 0 0" xyz="0 0 0"/>
        <geometry>
          <mesh filename="package://limbarm-robot/meshes/Link_5.STL"/>
        </geometry>
      </collision>
  </link>
  <joint name="Joint4_5" type="revolute">
      <origin rpy="3.1416 -1.5708 0" xyz="0 0 0.1795"/>
      <parent link="Link4_4"/>
      <child link="Link4_5"/>
      <axis xyz="0 0 1"/>
      <limit effort="0" lower="-1.9198621771937623" upper="1.9198621771937623" velocity="0"/>
  </joint>
  <link name="Link4_6">
      <inertial>
        <origin rpy="0 0 0" xyz="0.000146447962600783 0.000132910316064216 0.0194222181514005"/>
        <mass value="0.134599349728801"/>
        <inertia ixx="5.54993019233277E-05" ixy="-3.42434491188341E-07" ixz="1.1735586211374E-07" iyy="5.54034726867672E-05" iyz="9.38344787747327E-08" izz="9.77383386331803E-05"/>
      </inertial>
      <visual>
        <origin rpy="0 0 0" xyz="0 0 0"/>
        <geometry>
          <mesh filename="package://limbarm-robot/meshes/Link_6.STL"/>
        </geometry>
        <material name="">
          <color rgba="1 1 1 1"/>
        </material>
      </visual>
      <collision>
        <origin rpy="0 0 0" xyz="0 0 0"/>
        <geometry>
          <mesh filename="package://limbarm-robot/meshes/Link_6.STL"/>
        </geometry>
      </collision>
  </link>
  <joint name="Joint4_6" type="revolute">
      <origin rpy="0 1.5708 0" xyz="0.141 0 0"/>
      <parent link="Link4_5"/>
      <child link="Link4_6"/>
      <axis xyz="0 0 1"/>
      <limit effort="0" lower="-3.141592653589793" upper="3.141592653589793" velocity="0"/>
  </joint>
  <link name="Link4_Hand">
      <inertial>
        <origin rpy="0 0 0" xyz="-5.34486019601772E-05 -0.00163292800302499 0.0718038327986019"/>
        <mass value="0.306213518195145" />
        <inertia ixx="0.000241886583337232" ixy="-7.53752414578879E-06" ixz="-4.09966232551133E-08" iyy="0.000127174038942717" iyz="1.77993490423381E-06" izz="0.000271550204634038" />
      </inertial>
      <visual>
        <origin rpy="0 0 0" xyz="0 0 0"/>
        <geometry>
          <mesh filename="package://limbarm-robot/meshes/Hand.STL" />
        </geometry>
        <material name="">
          <color rgba="1 1 1 1" />
        </material>
      </visual>
      <collision>
        <origin rpy="0 0 0" xyz="0 0 0"/>
        <geometry>
          <mesh
            filename="package://limbarm-robot/meshes/Hand.STL" />
        </geometry>
      </collision>
  </link>
  <joint name="Joint4_hand"
      type="fixed">
      <origin rpy="0 0 0" xyz="0 0 0.0385"/>
      <parent link="Link4_6" />
      <child link="Link4_Hand" />
      <axis xyz="0 0 0" />
  </joint>
  <!-- <link name="Link1_platlink">
      <inertial>
        <origin rpy="0 0 0" xyz="0.0289156328970307 -0.0118446128560949 0.000499999999999173"/>
        <mass value="0.0220769548357911"/>
        <inertia ixx="2.37550123797196E-06" ixy="4.94134205566748E-06" ixz="9.82725726587017E-22" iyy="1.24144355257915E-05" iyz="-1.77130197123773E-22" izz="1.46210848148476E-05"/>
      </inertial>
      <visual>
        <origin rpy="0 0 0" xyz="0 0 0"/>
        <geometry>
          <mesh filename="package://limbarm-robot/meshes/Link_platlink.STL"/>
        </geometry>
        <material name="">
          <color rgba="0.898039215686275 0.917647058823529 0.929411764705882 1"/>
        </material>
      </visual>
      <collision>
        <origin rpy="0 0 0" xyz="0 0 0"/>
        <geometry>
          <mesh filename="package://limbarm-robot/meshes/Link_platlink.STL"/>
        </geometry>
      </collision>
  </link>
  <joint name="Joint1_platlink" type="revolute">
      <origin rpy="1.5708 0 0.7854" xyz="0.056569 0.056569 0"/>
      <parent link="Link_platform"/>
      <child link="Link1_platlink"/>
      <axis xyz="0 0 1"/>
      <limit effort="0" lower="-1.5707963267948966" upper="0" velocity="0"/>
  </joint>
  <link name="Link2_platlink">
      <inertial>
        <origin rpy="0 0 0" xyz="0.0289156328970307 -0.0118446128560949 0.000499999999999173"/>
        <mass value="0.0220769548357911"/>
        <inertia ixx="2.37550123797196E-06" ixy="4.94134205566748E-06" ixz="9.82725726587017E-22" iyy="1.24144355257915E-05" iyz="-1.77130197123773E-22" izz="1.46210848148476E-05"/>
      </inertial>
      <visual>
        <origin rpy="0 0 0" xyz="0 0 0"/>
        <geometry>
          <mesh filename="package://limbarm-robot/meshes/Link_platlink.STL"/>
        </geometry>
        <material name="">
          <color rgba="0.898039215686275 0.917647058823529 0.929411764705882 1"/>
        </material>
      </visual>
      <collision>
        <origin rpy="0 0 0" xyz="0 0 0"/>
        <geometry>
          <mesh filename="package://limbarm-robot/meshes/Link_platlink.STL"/>
        </geometry>
      </collision>
  </link>
  <joint name="Joint2_platlink" type="revolute">
      <origin rpy="1.5708 0 2.3562" xyz="-0.056569 0.056569 0"/>
      <parent link="Link_platform"/>
      <child link="Link2_platlink"/>
      <axis xyz="0 0 1"/>
      <limit effort="0" lower="-1.5707963267948966" upper="0" velocity="0"/>
  </joint>
  <link name="Link3_platlink">
      <inertial>
        <origin rpy="0 0 0" xyz="0.0289156328970307 -0.0118446128560949 0.000499999999999173"/>
        <mass value="0.0220769548357911"/>
        <inertia ixx="2.37550123797196E-06" ixy="4.94134205566748E-06" ixz="9.82725726587017E-22" iyy="1.24144355257915E-05" iyz="-1.77130197123773E-22" izz="1.46210848148476E-05"/>
      </inertial>
      <visual>
        <origin rpy="0 0 0" xyz="0 0 0"/>
        <geometry>
          <mesh filename="package://limbarm-robot/meshes/Link_platlink.STL"/>
        </geometry>
        <material name="">
          <color rgba="0.898039215686275 0.917647058823529 0.929411764705882 1"/>
        </material>
      </visual>
      <collision>
        <origin rpy="0 0 0" xyz="0 0 0"/>
        <geometry>
          <mesh filename="package://limbarm-robot/meshes/Link_platlink.STL"/>
        </geometry>
      </collision>
  </link>
  <joint name="Joint3_platlink" type="revolute">
      <origin rpy="1.5708 0 -0.7854" xyz="0.056569 -0.056569 0"/>
      <parent link="Link_platform"/>
      <child link="Link3_platlink"/>
      <axis xyz="0 0 1"/>
      <limit effort="0" lower="-1.5707963267948966" upper="0" velocity="0"/>
  </joint>
  <link name="Link4_platlink">
      <inertial>
        <origin rpy="0 0 0" xyz="0.0289156328970307 -0.0118446128560949 0.000499999999999173"/>
        <mass value="0.0220769548357911"/>
        <inertia ixx="2.37550123797196E-06" ixy="4.94134205566748E-06" ixz="9.82725726587017E-22" iyy="1.24144355257915E-05" iyz="-1.77130197123773E-22" izz="1.46210848148476E-05"/>
      </inertial>
      <visual>
        <origin rpy="0 0 0" xyz="0 0 0"/>
        <geometry>
          <mesh filename="package://limbarm-robot/meshes/Link_platlink.STL"/>
        </geometry>
        <material name="">
          <color rgba="0.898039215686275 0.917647058823529 0.929411764705882 1"/>
        </material>
      </visual>
      <collision>
        <origin rpy="0 0 0" xyz="0 0 0"/>
        <geometry>
          <mesh filename="package://limbarm-robot/meshes/Link_platlink.STL"/>
        </geometry>
      </collision>
  </link>
  <joint name="Joint4_platlink" type="revolute">
      <origin rpy="1.5708 0 -2.3562" xyz="-0.056569 -0.056569 0"/>
      <parent link="Link_platform"/>
      <child link="Link4_platlink"/>
      <axis xyz="0 0 1"/>
      <limit effort="0" lower="-1.5707963267948966" upper="0" velocity="0"/>
  </joint> -->
</robot>
